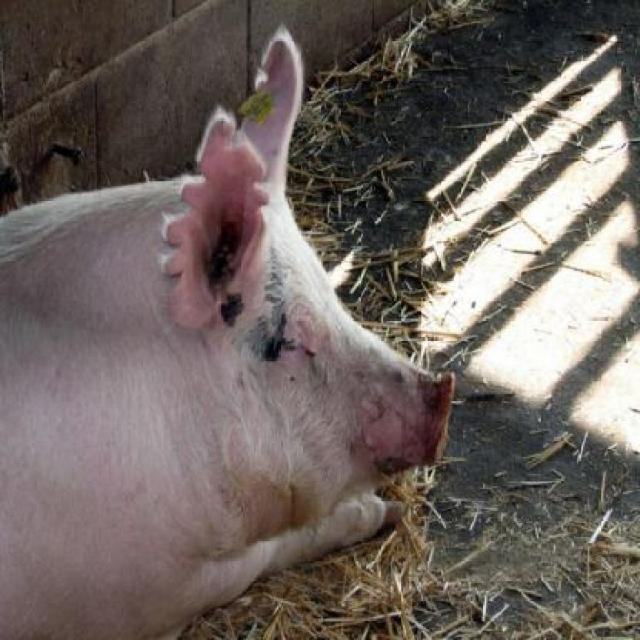pig: (0, 24, 455, 640)
